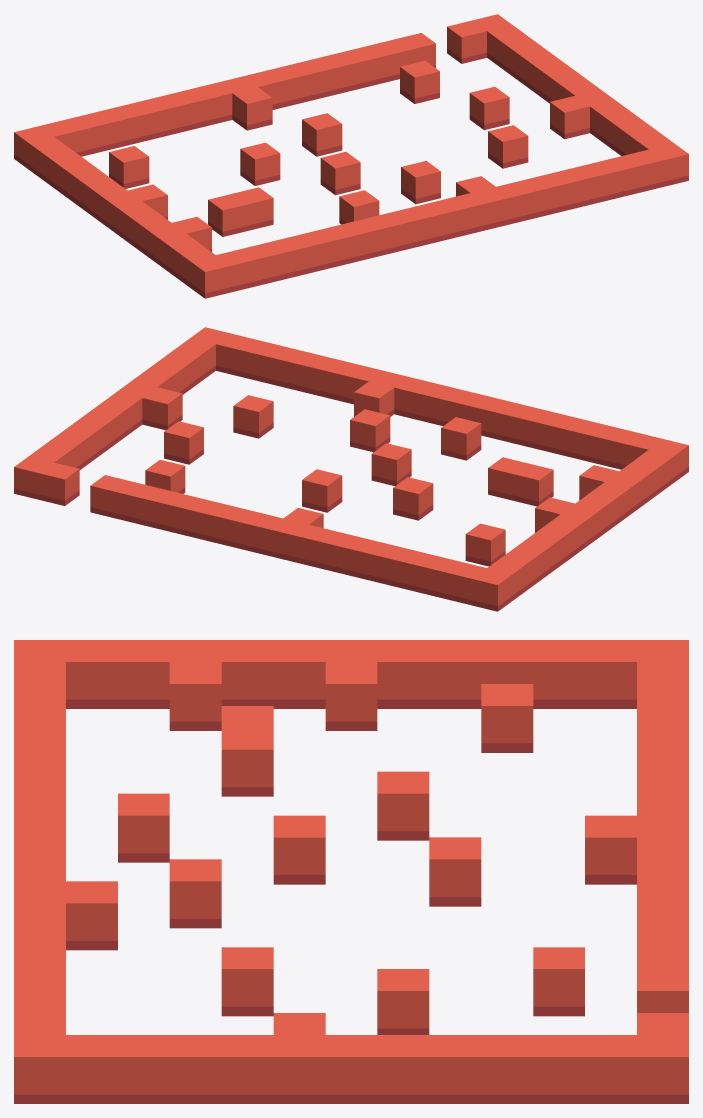
File: map14.obj
3 renders of one model, top to bottom at view 1: azimuth 30°, elevation 25°; view 2: azimuth 150°, elevation 25°; view 3: azimuth 270°, elevation 25°, orthographic. The views are drawn at different scales.
Visible parts, largest first — view 1: mergedBlocks; view 2: mergedBlocks; view 3: mergedBlocks.
Part boxes in pixels (x1=…): mergedBlocks: x1=14, y1=14, x2=688, y2=298; mergedBlocks: x1=14, y1=327, x2=688, y2=611; mergedBlocks: x1=14, y1=640, x2=688, y2=1103.
Bounding box in the file's own units: 19 × 1 × 13.
